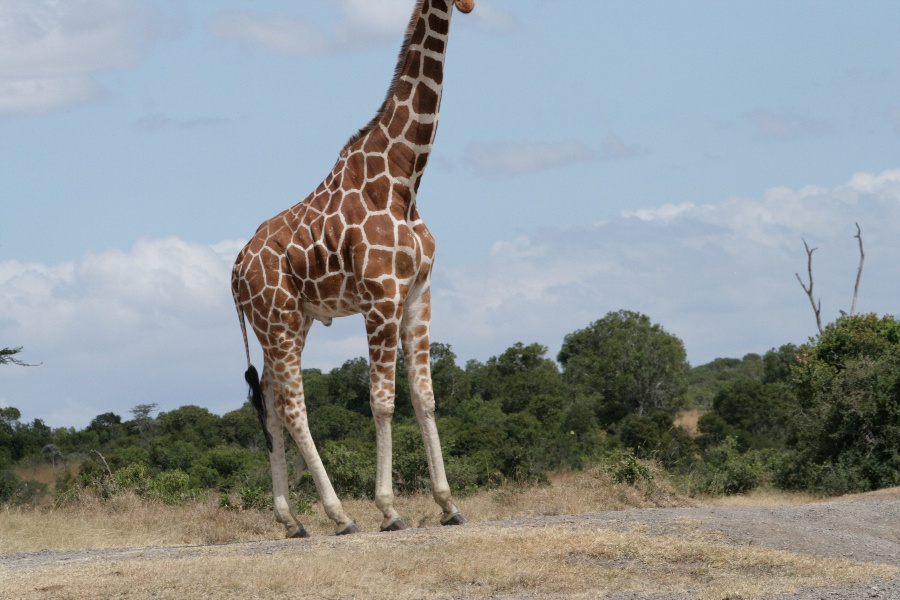giraffe: (222, 0, 484, 538)
